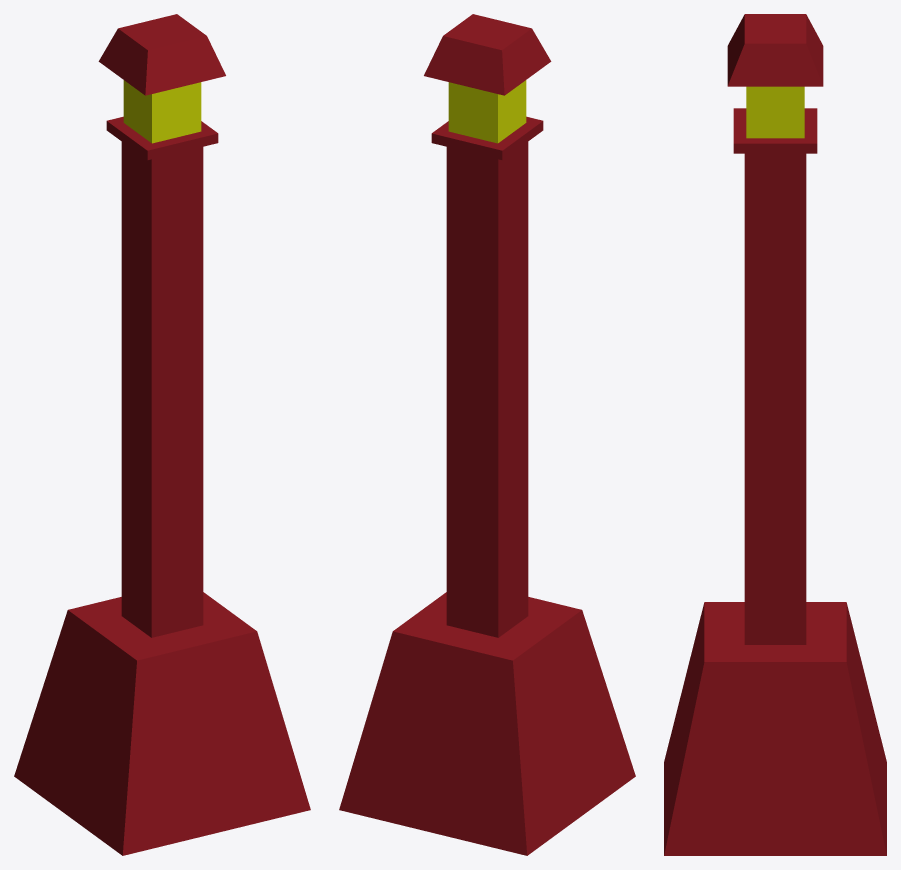
The model's file is Lights1.fbx.
3 renders of one model, left to right at view 1: azimuth 30°, elevation 25°; view 2: azimuth 150°, elevation 25°; view 3: azimuth 270°, elevation 25°, orthographic. The views are drawn at different scales.
Parts seen in each view (by area): view 1: pCube29; view 2: pCube29; view 3: pCube29.
Part boxes in pixels (x1=…): pCube29: x1=14, y1=14, x2=310, y2=855; pCube29: x1=339, y1=14, x2=635, y2=855; pCube29: x1=664, y1=14, x2=886, y2=855.
Size of the model in its own units: 2.11 by 8.16 by 2.11.
